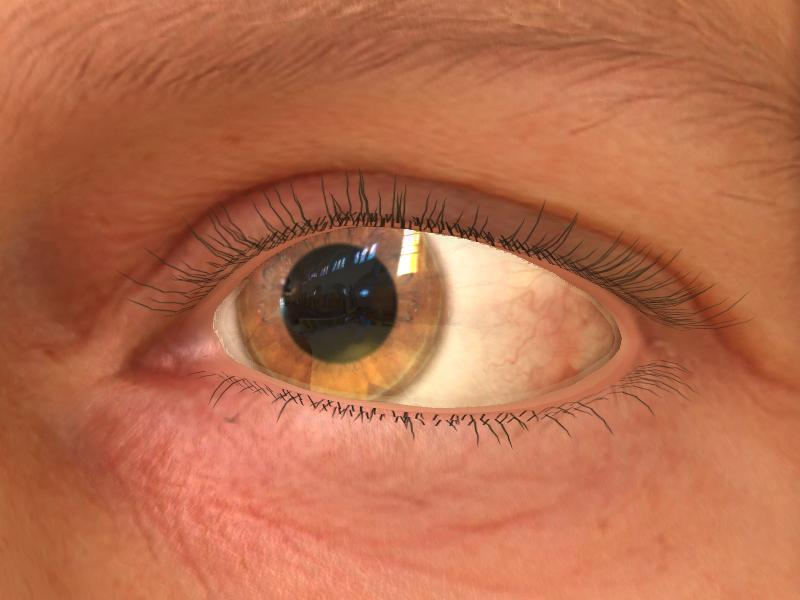eye: (238, 217, 453, 410)
